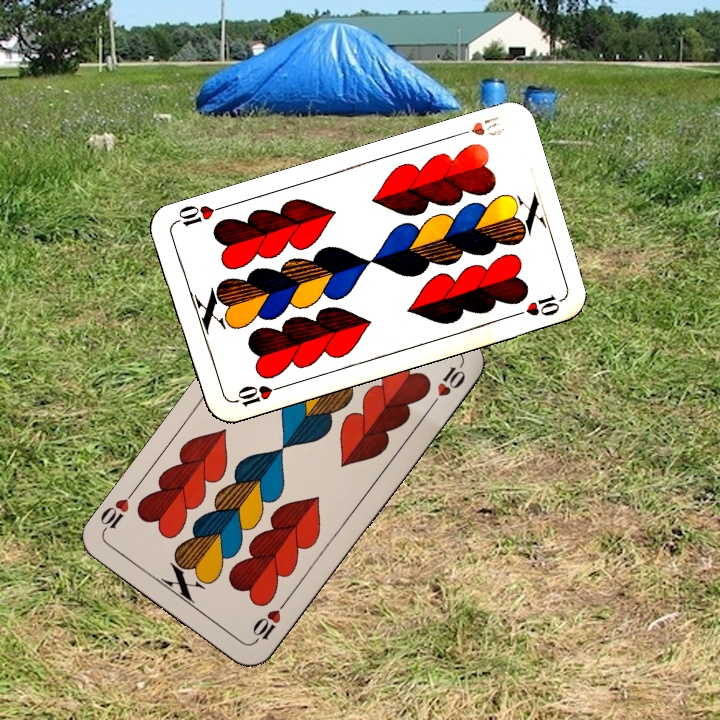H10: (248, 595, 291, 646), (227, 381, 285, 409), (450, 112, 508, 140)
